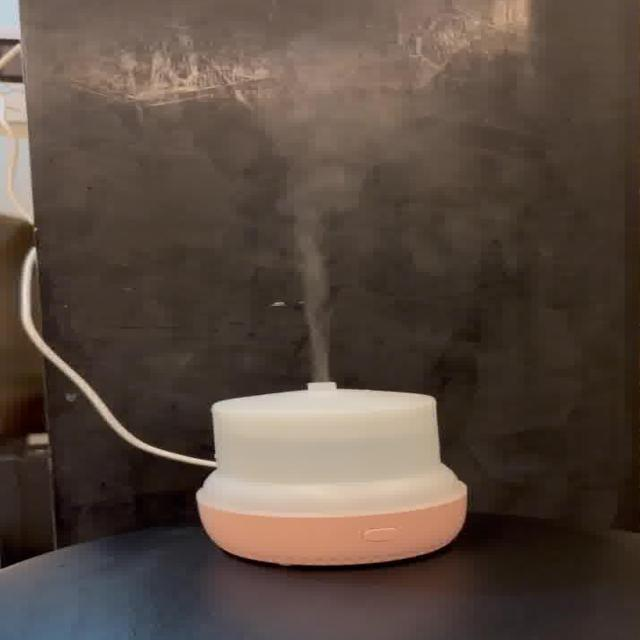fire: (254, 84, 407, 378)
